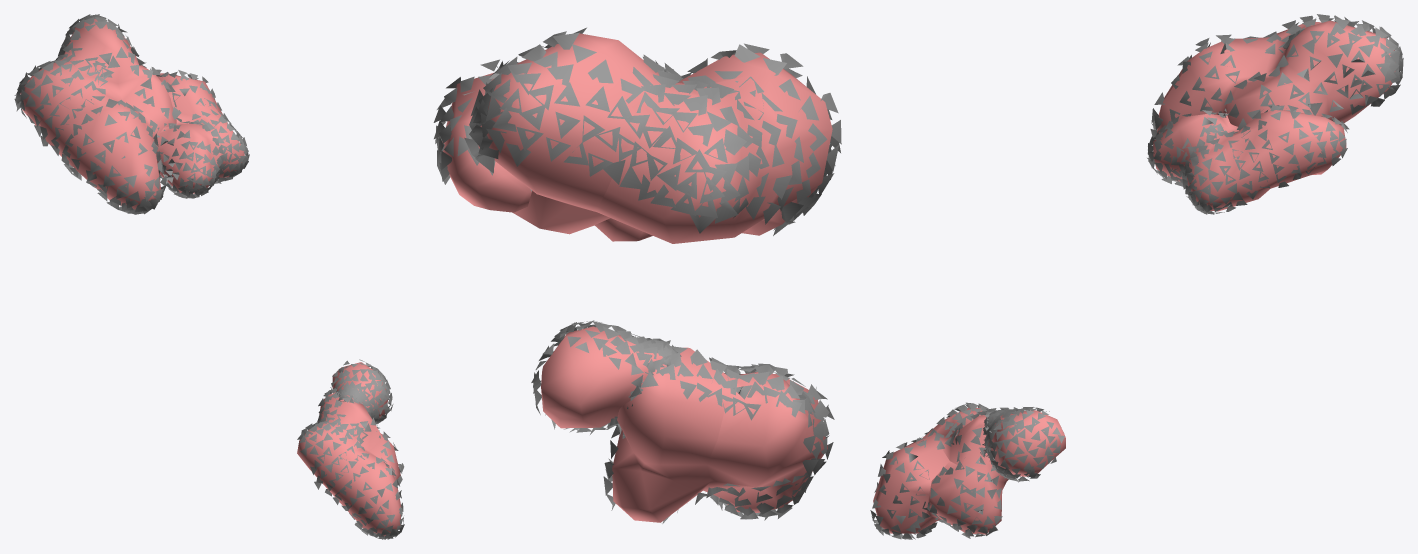
File: SM_ENV_LKNVLD_TreeSet_R_Lod2.gltf
3 renders of one model, left to right at view 1: azimuth 30°, elevation 25°; view 2: azimuth 150°, elevation 25°; view 3: azimuth 270°, elevation 25°, orthographic. The views are drawn at different scales.
Visible parts, largest first — view 1: SM_ENV_LKNVLD_TreeSet_R_Lod2; view 2: SM_ENV_LKNVLD_TreeSet_R_Lod2; view 3: SM_ENV_LKNVLD_TreeSet_R_Lod2.
Boxes of the visible parts, left/top/right/bottom form: SM_ENV_LKNVLD_TreeSet_R_Lod2: left=14, top=14, right=404, bottom=539; SM_ENV_LKNVLD_TreeSet_R_Lod2: left=433, top=27, right=841, bottom=523; SM_ENV_LKNVLD_TreeSet_R_Lod2: left=870, top=14, right=1403, bottom=539.
Bounding box in the file's own units: 22.65 × 36.82 × 38.29.
